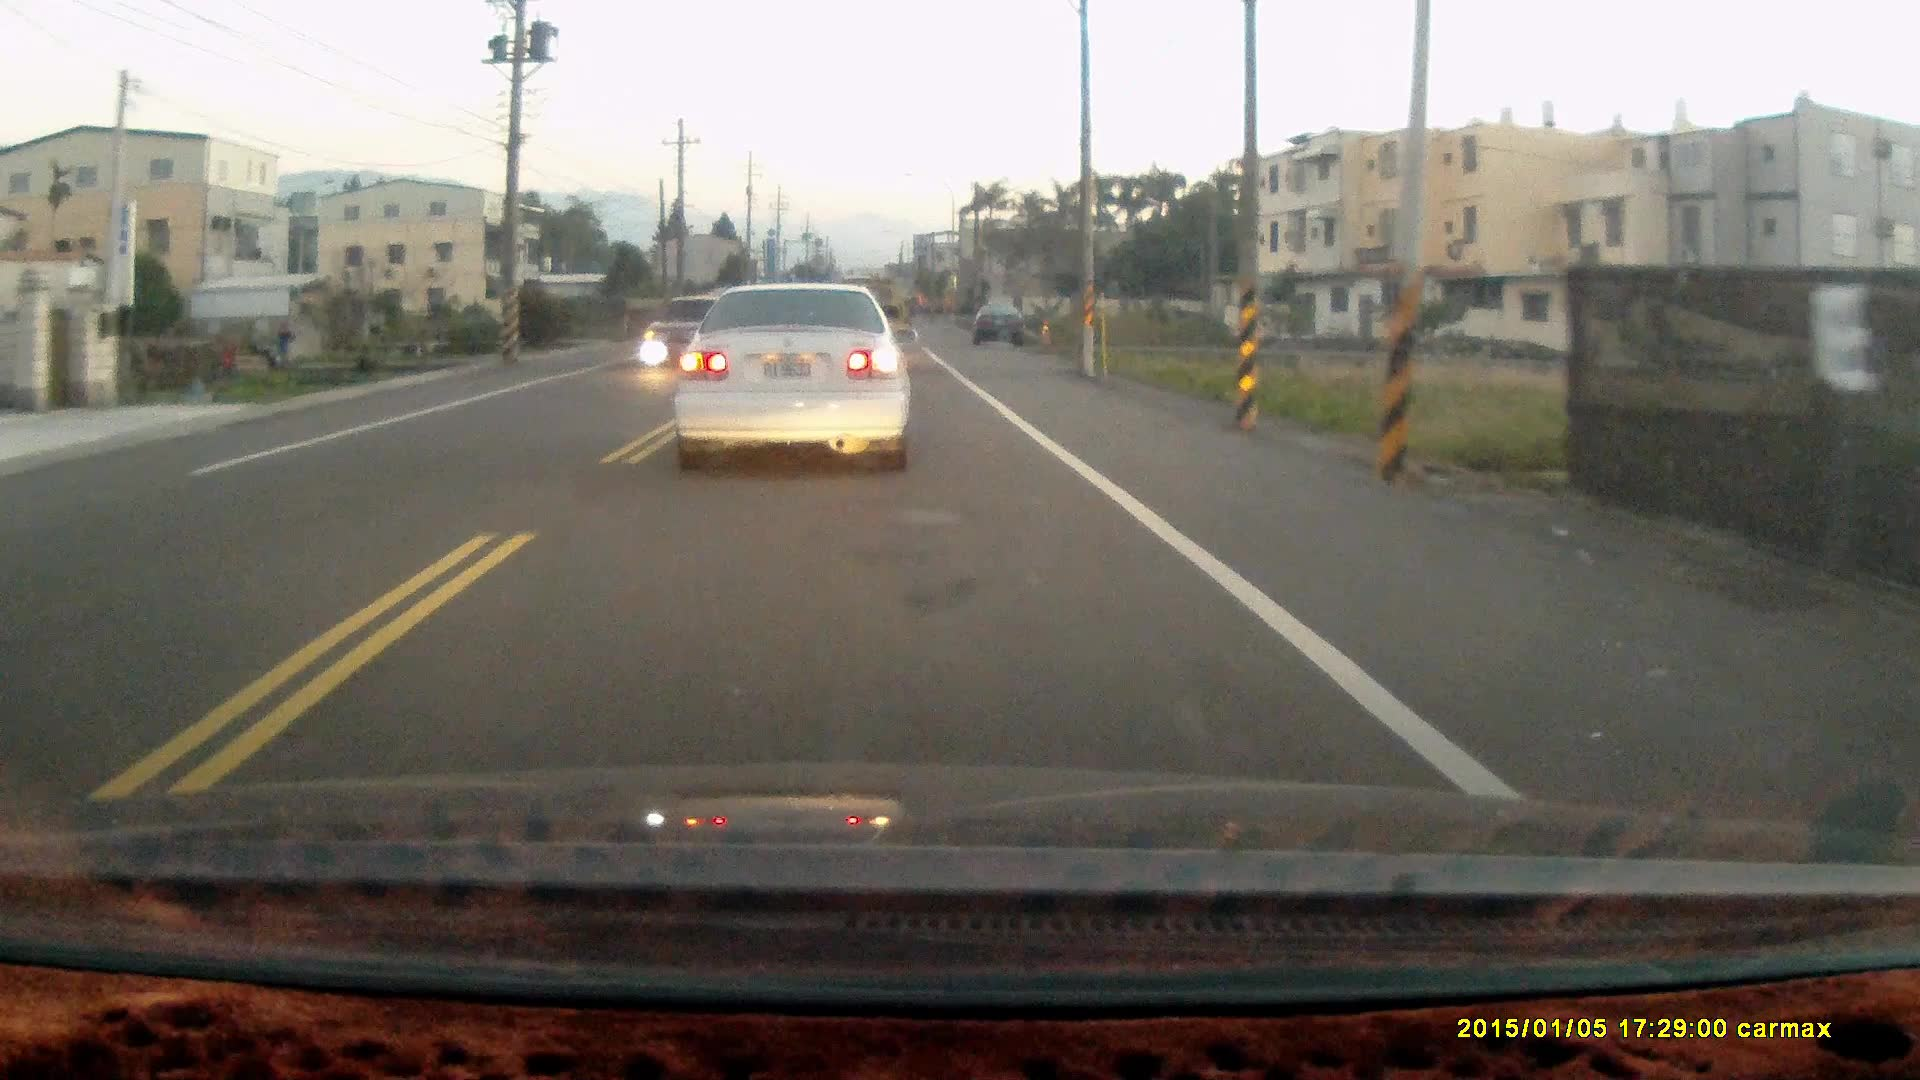pedestrian: (272, 319, 292, 368), (216, 338, 237, 382)
vehicle: (675, 280, 916, 469), (641, 290, 729, 379), (972, 302, 1032, 347)
